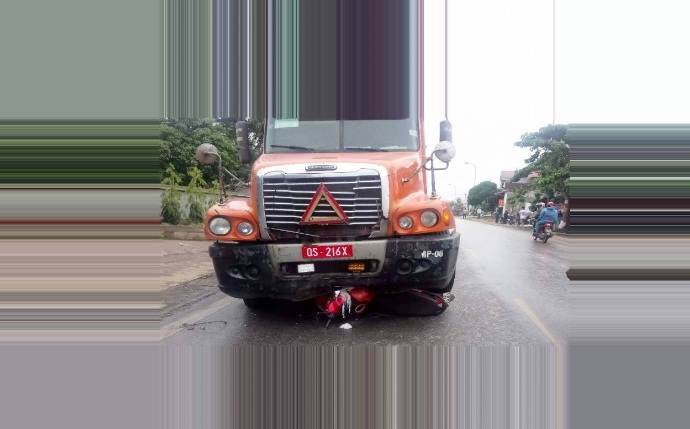plate: (299, 241, 355, 261)
